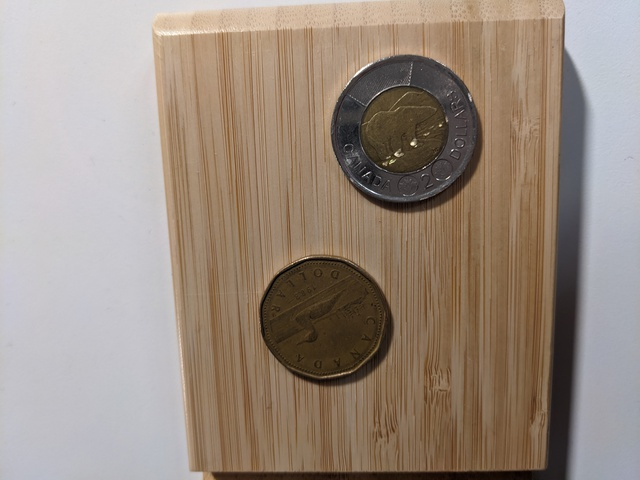loonie: (251, 241, 396, 389)
twonie: (313, 52, 487, 216)
